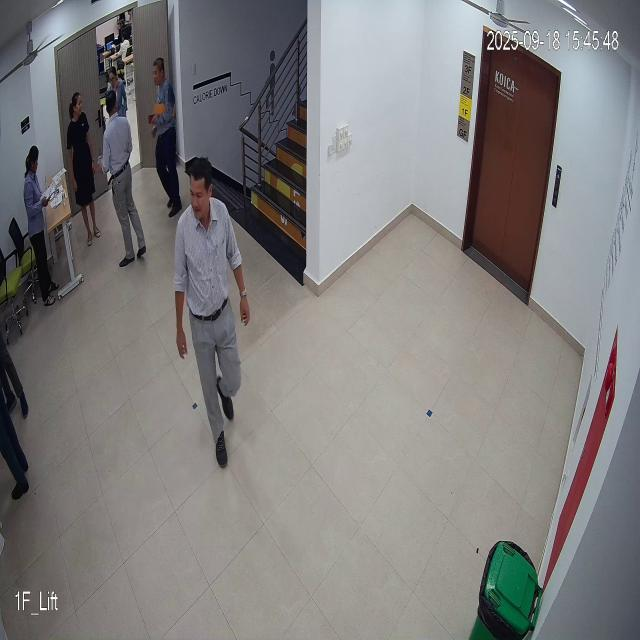face: (187, 157, 212, 222)
